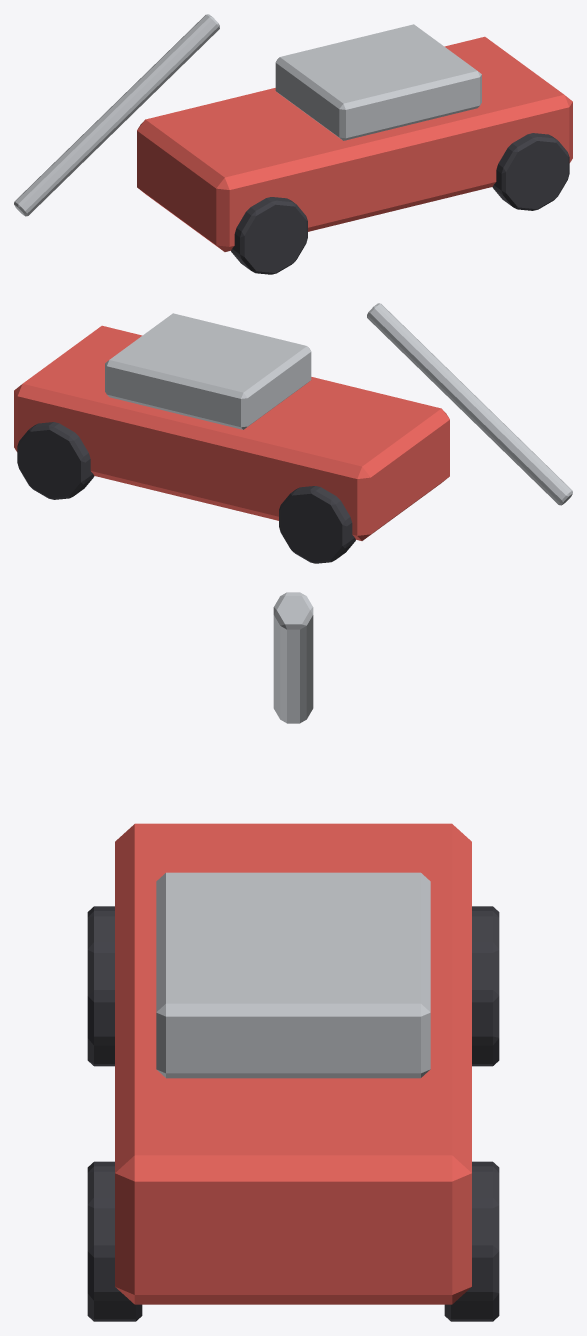
3 views of the same model, one above another, from view 1: azimuth 30°, elevation 25°; view 2: azimuth 150°, elevation 25°; view 3: azimuth 270°, elevation 25° (orthographic). The views are drawn at different scales.
Parts seen in each view (by area): view 1: SliderVisual; view 2: SliderVisual; view 3: SliderVisual.
Part boxes in pixels (x1,y1,x2,y2): SliderVisual: (14,14,572,274); SliderVisual: (14,303,572,563); SliderVisual: (87,592,499,1321).
Bounding box in the file's own units: 0.4349 × 0.1813 × 0.15.
